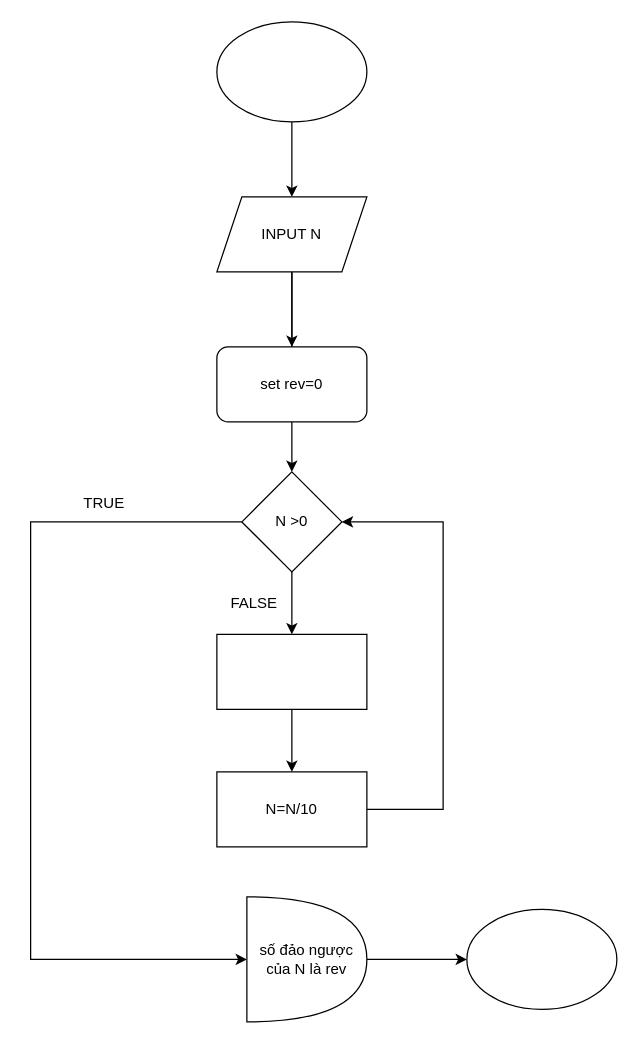
This 639x1044 diagram has some shape labels left out. The box of each missing label's shape, as (x1, y1, x2, y2) in pixels:
END: (466, 908, 617, 1009)
rev = rev*10+N%10: (216, 633, 367, 709)
START: (216, 21, 367, 122)
